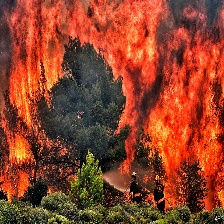fire: (3, 2, 224, 208)
